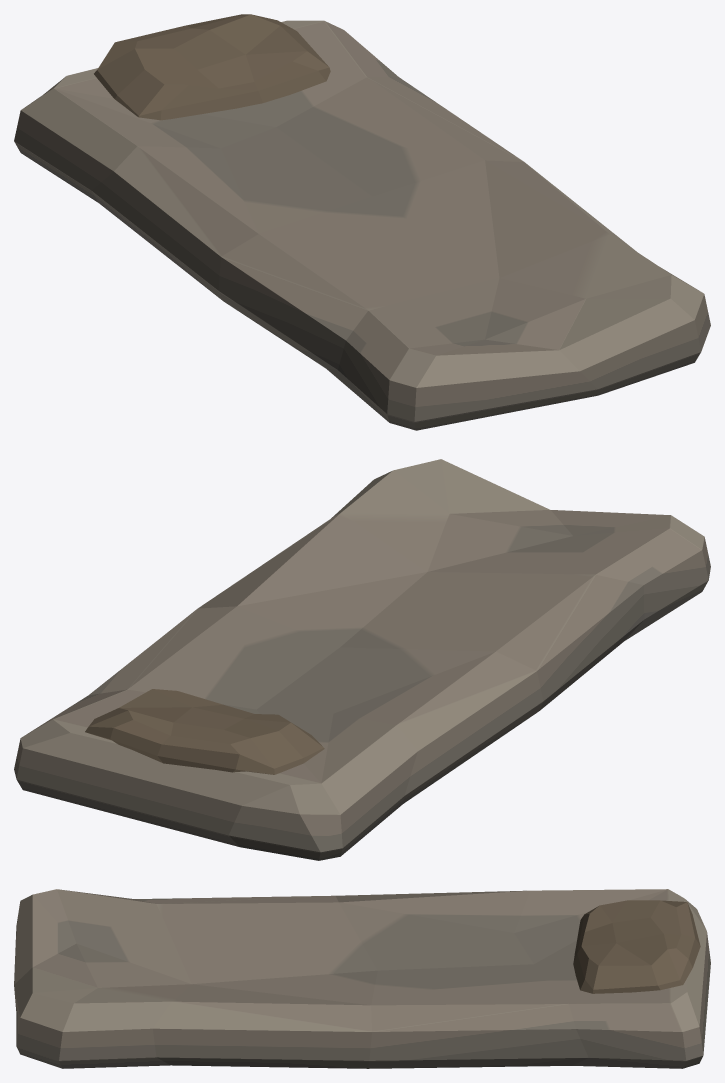
The model's file is SM_Prop_Bed_Mattress_02.glb.
3 renders of one model, top to bottom at view 1: azimuth 30°, elevation 25°; view 2: azimuth 150°, elevation 25°; view 3: azimuth 270°, elevation 25°, orthographic. The views are drawn at different scales.
Visible parts, largest first — view 1: SM_Prop_Bed_Mattress_02; view 2: SM_Prop_Bed_Mattress_02; view 3: SM_Prop_Bed_Mattress_02.
Boxes of the visible parts, x1,y1,x2,y2 form: SM_Prop_Bed_Mattress_02: (14, 14, 710, 430); SM_Prop_Bed_Mattress_02: (14, 459, 710, 860); SM_Prop_Bed_Mattress_02: (14, 889, 710, 1068).
Size of the model in its own units: 0.8996 by 0.2543 by 1.89.
Materials: 1 (1 with a texture image).
